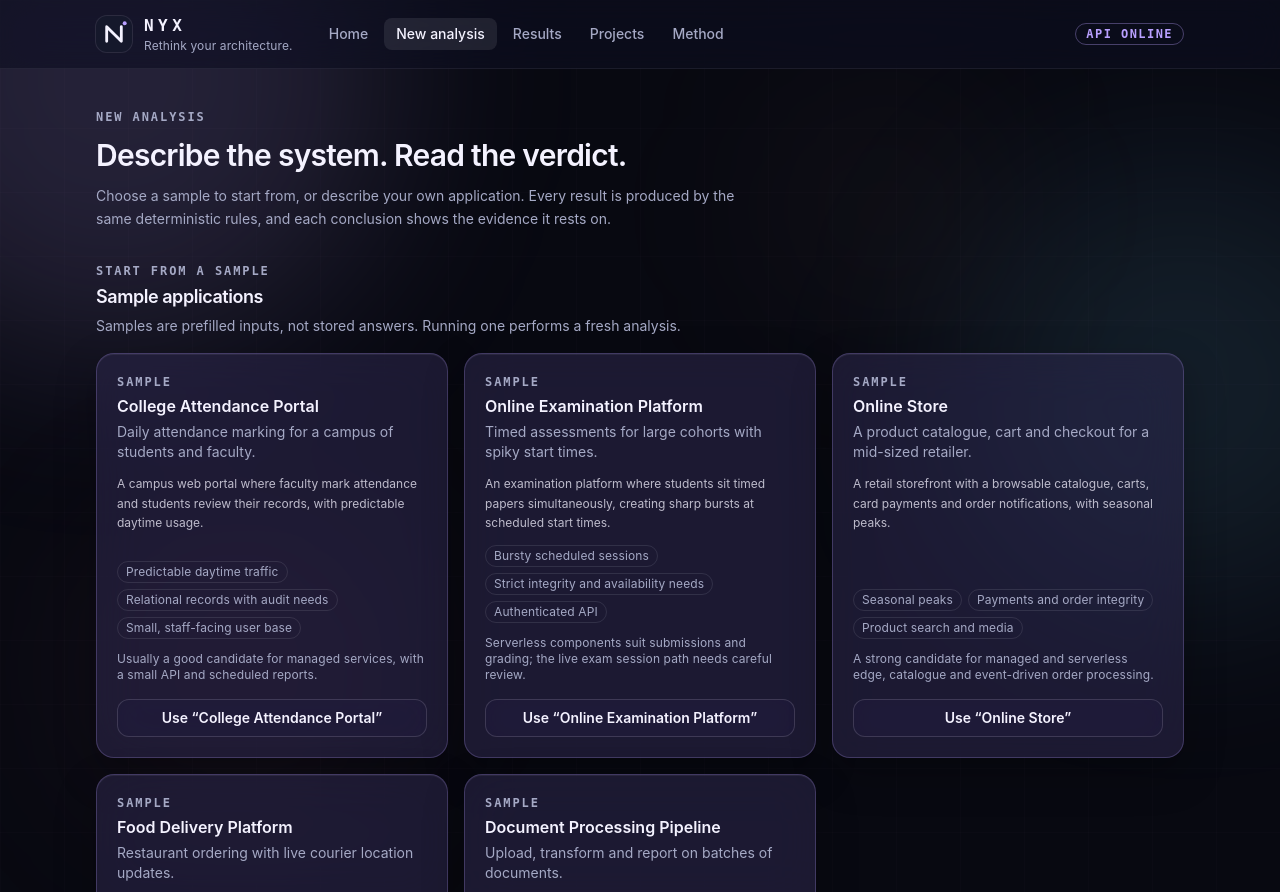
Scenario: results › shows every cost sensitivity row, including scenarios that share a driver name
The width and height of the screenshot is (1280, 892).
Step 1. Click the button "Use “Online Examination Platform”" → click(640, 718), box [485,699,795,737]
(page scrolled)
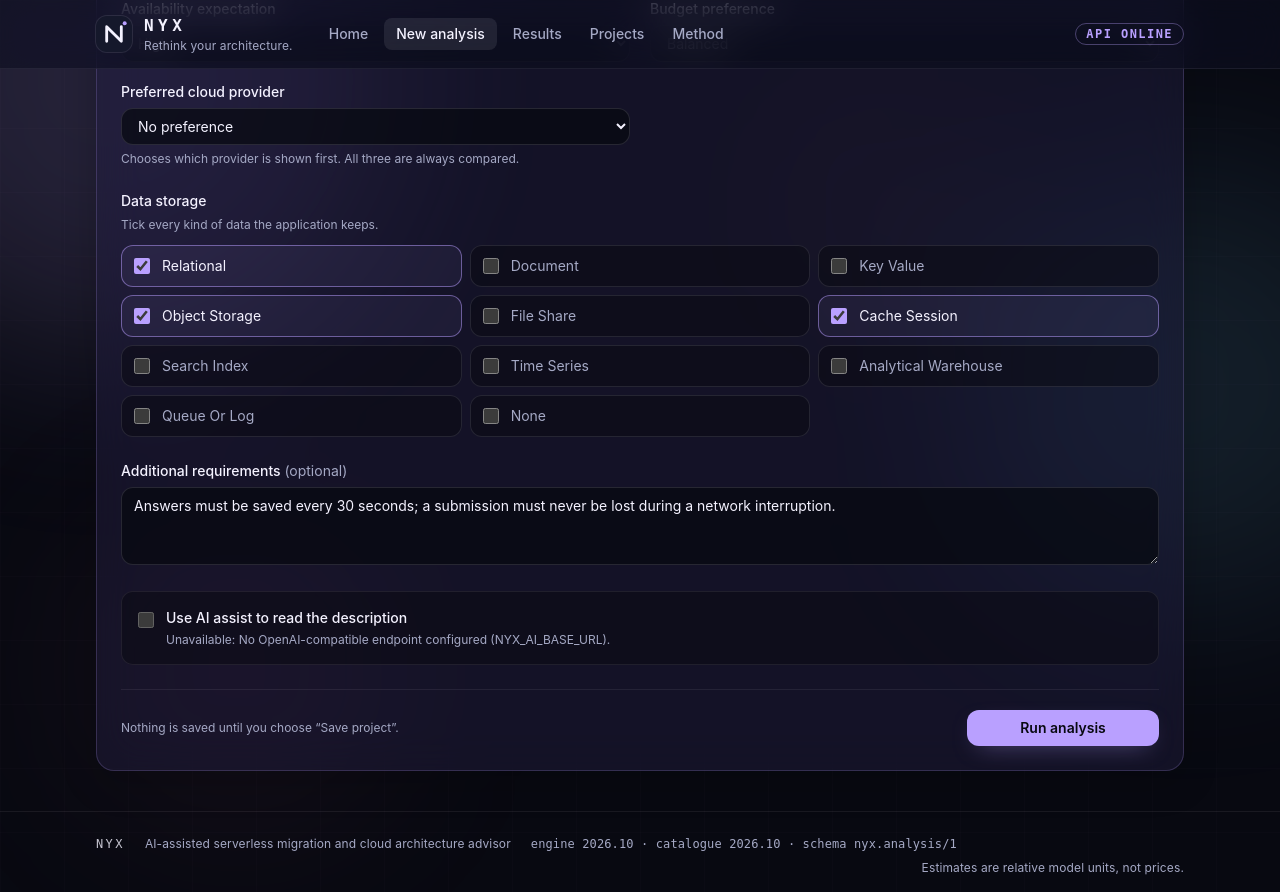
Step 2. Click the button "Run analysis" → click(1063, 728), box [967,710,1159,746]
(page scrolled)
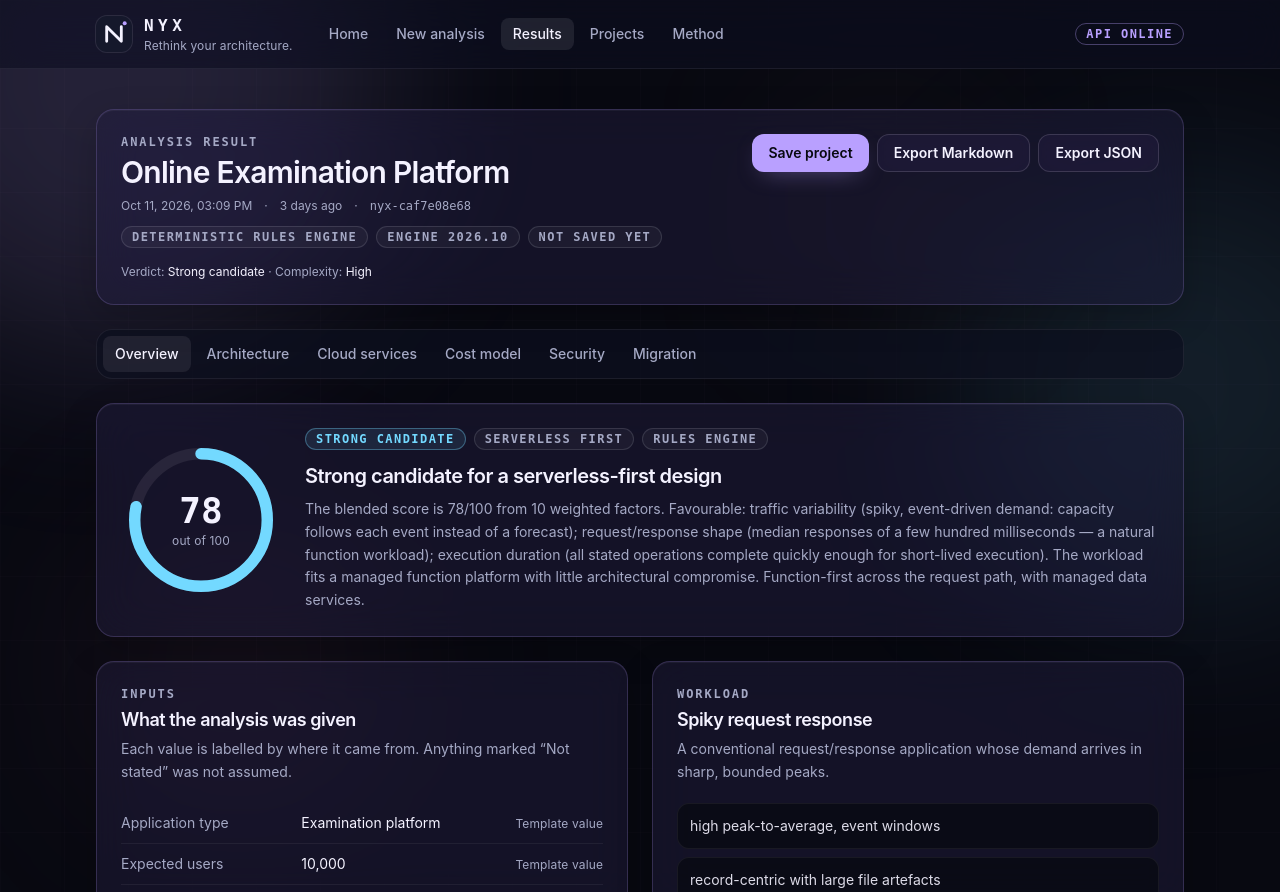
Result: the element named "result sections" is shown at [96,329,1184,379]
Step 3. Click the tab "Cost model" → click(483, 354), box [433,336,533,372]
(page scrolled)
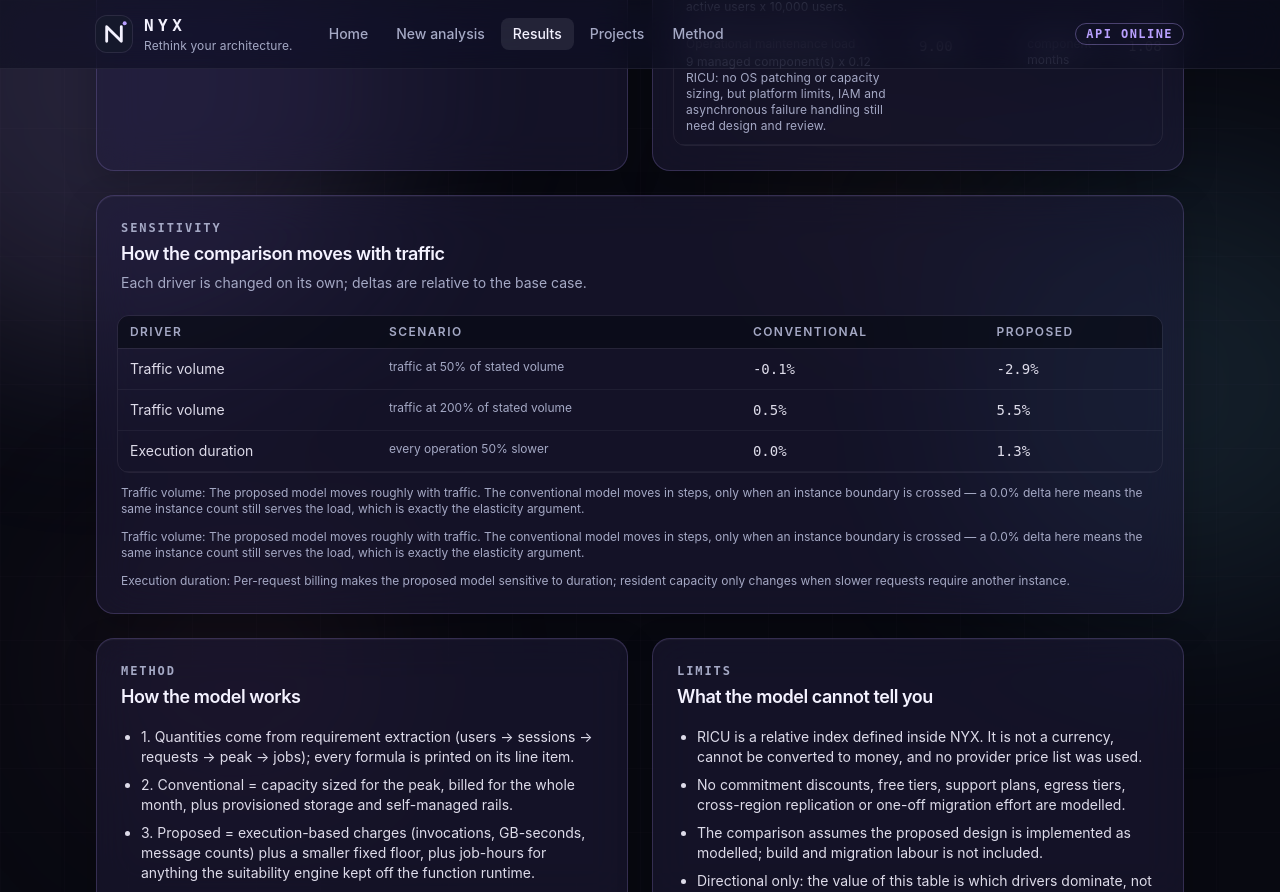
Result: the text "traffic at 50% of stated volume" is shown at [377,349,741,389]
Result: the text "traffic at 200% of stated volume" is shown at [377,389,741,430]
Result: the text "every operation 50% slower" is shown at [377,430,741,471]
